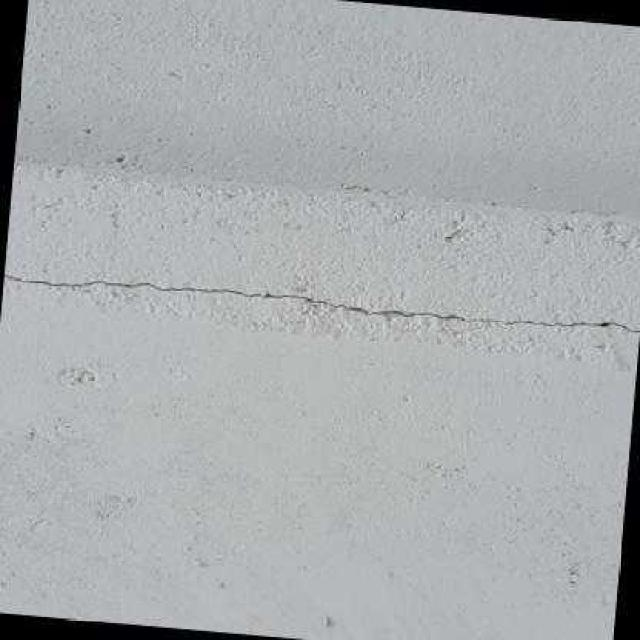D00: (4, 272, 640, 336)
